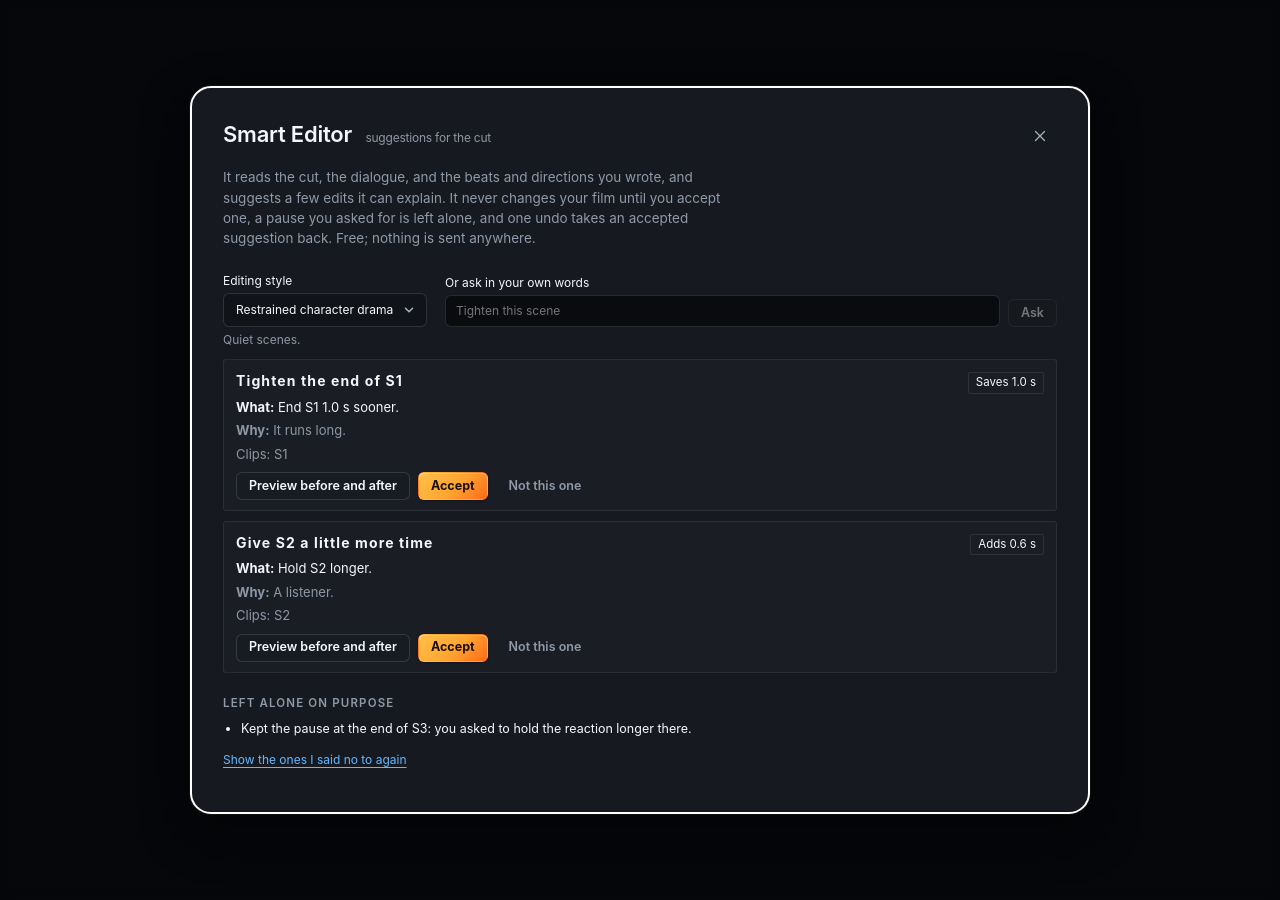
Test: the Smart Editor sheet › sends a plain request as it was typed, shows what was understood or not, and does not offer an unbuilt style
Expected: the list item "Tighten the end of S1" is shown, [223, 359, 1057, 511]
Type "make this cinematic" into the field labelled "Or ask in your own words" at (722,311), box [445, 295, 1000, 327]
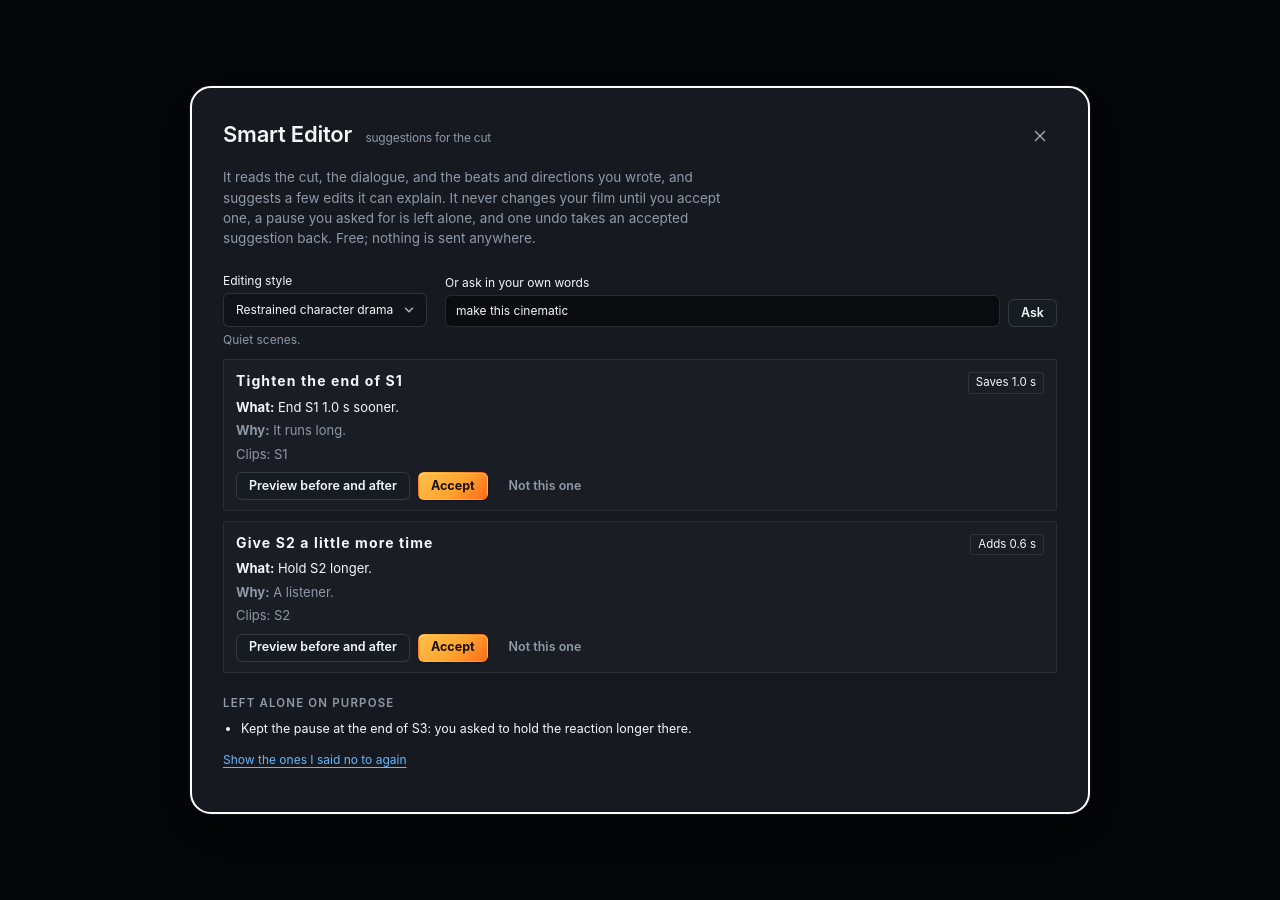
Click the button "Ask" at (1032,313), box [1008, 299, 1057, 327]
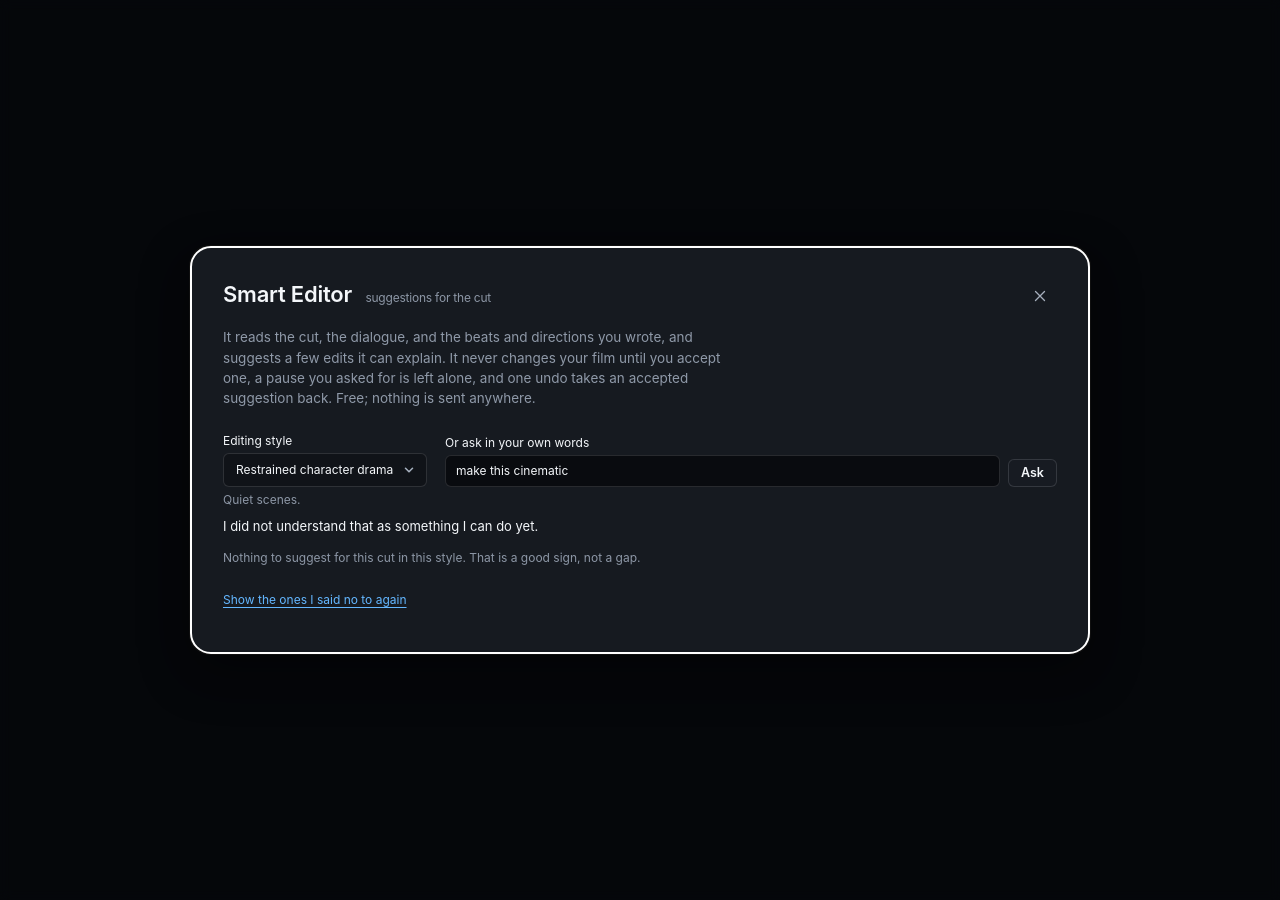
Expected: the text "I did not understand that as something I can do yet." is shown, [223, 518, 538, 534]
Expected: the text "Nothing to suggest for this cut" is shown, [223, 550, 640, 565]
